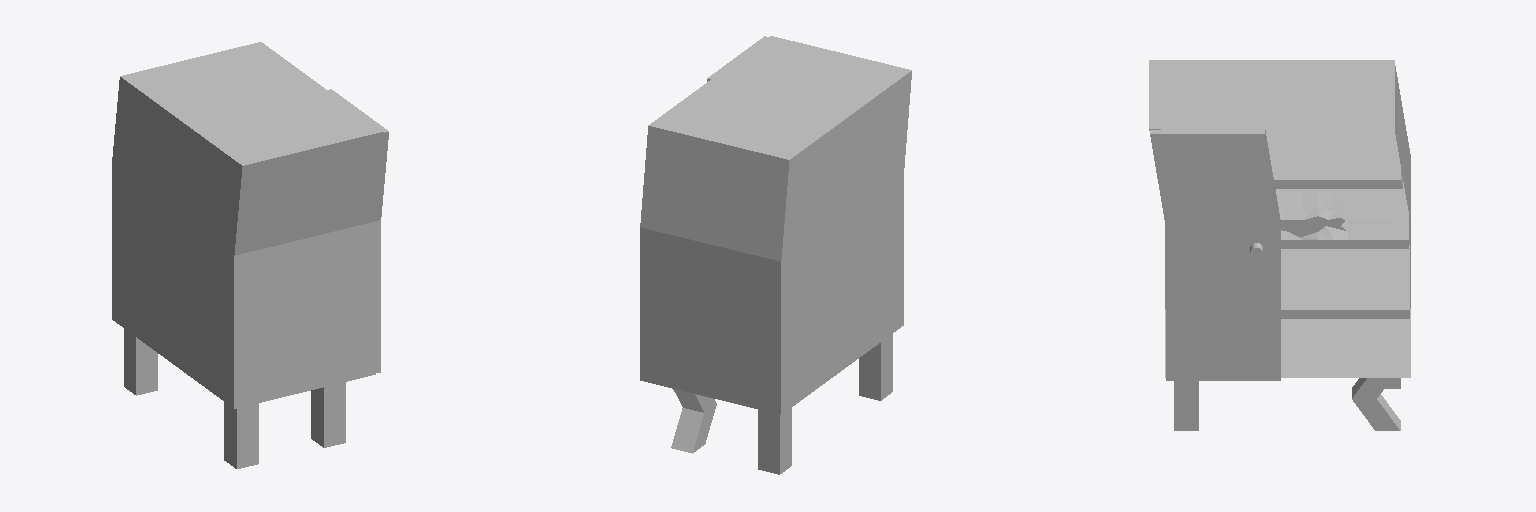
File: armoiredéforméeblend.obj
3 views of the same model, side by side, from view 1: azimuth 30°, elevation 25°; view 2: azimuth 150°, elevation 25°; view 3: azimuth 270°, elevation 25° (orthographic).
Parts seen in each view (by area): view 1: Cube; view 2: Cube; view 3: Cube.
Part boxes in pixels (left/top/right/bottom): Cube: left=112, top=42, right=388, bottom=468; Cube: left=640, top=36, right=911, bottom=474; Cube: left=1149, top=60, right=1410, bottom=430.
Size of the model in its own units: 3.62 by 6.88 by 5.2.